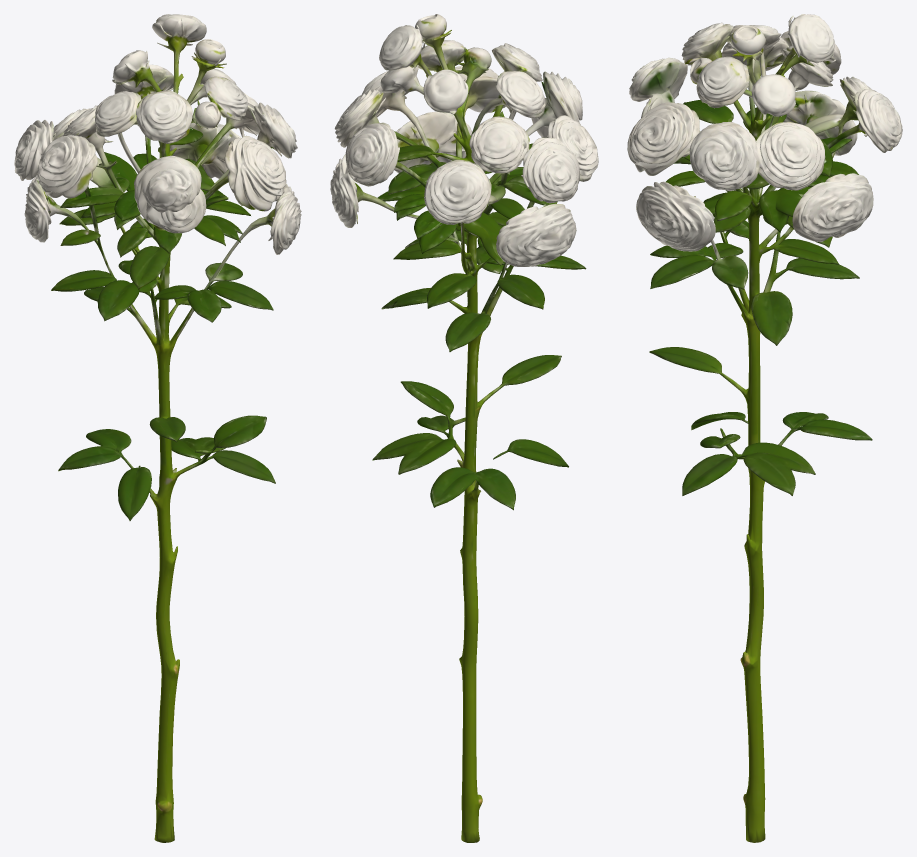
The model's file is muxianghua.glb.
3 views of the same model, side by side, from view 1: azimuth 30°, elevation 25°; view 2: azimuth 150°, elevation 25°; view 3: azimuth 270°, elevation 25° (orthographic). The views are drawn at different scales.
Parts seen in each view (by area): view 1: node_0; view 2: node_0; view 3: node_0.
Part boxes in pixels (left/top/right/bottom): node_0: left=14, top=14, right=301, bottom=842; node_0: left=330, top=14, right=598, bottom=842; node_0: left=627, top=14, right=902, bottom=842.
Bounding box in the file's own units: 0.3727 × 1.19 × 0.3529.
1 material, 1 textured.
